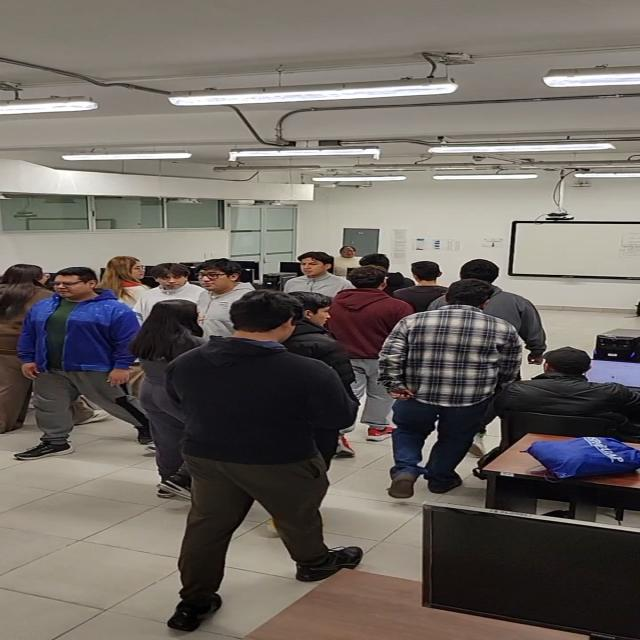Persona: (164, 288, 365, 632), (390, 273, 508, 499), (23, 263, 148, 470), (128, 294, 198, 494), (329, 261, 397, 439), (0, 258, 46, 430), (194, 255, 247, 338)
